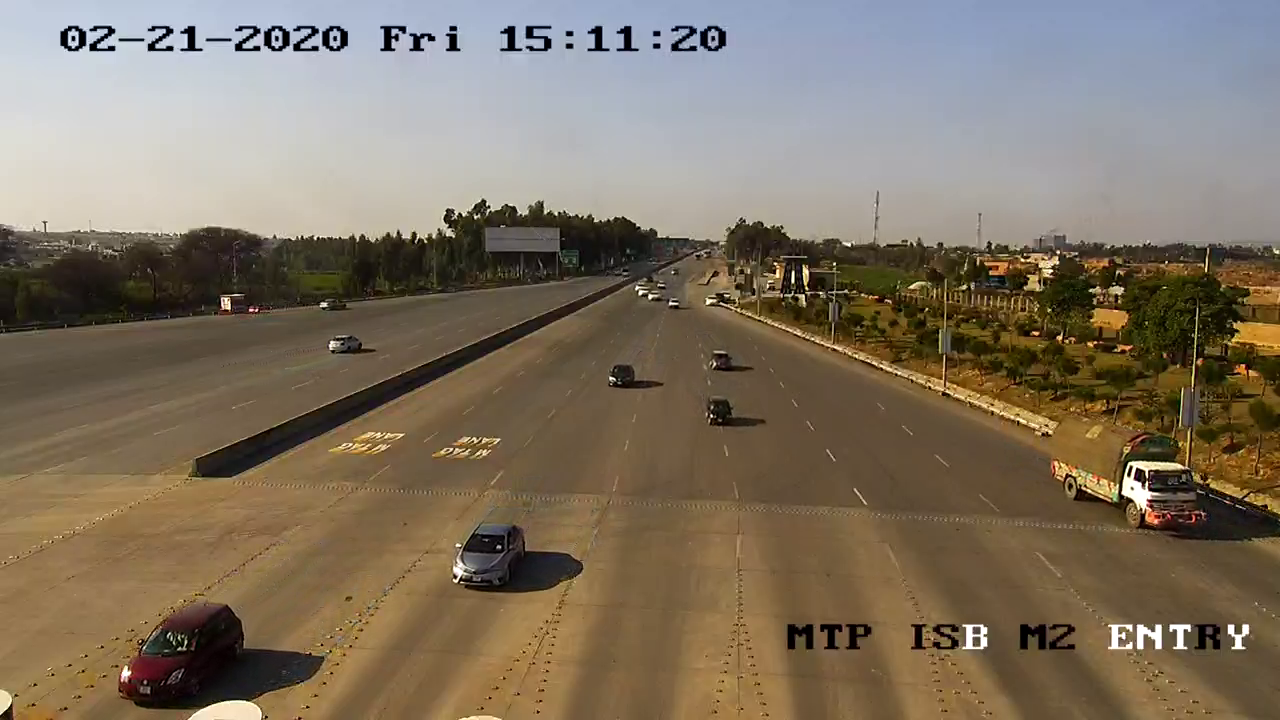f1: (112, 592, 251, 710), (449, 515, 532, 602)
f5: (1040, 408, 1210, 538)
